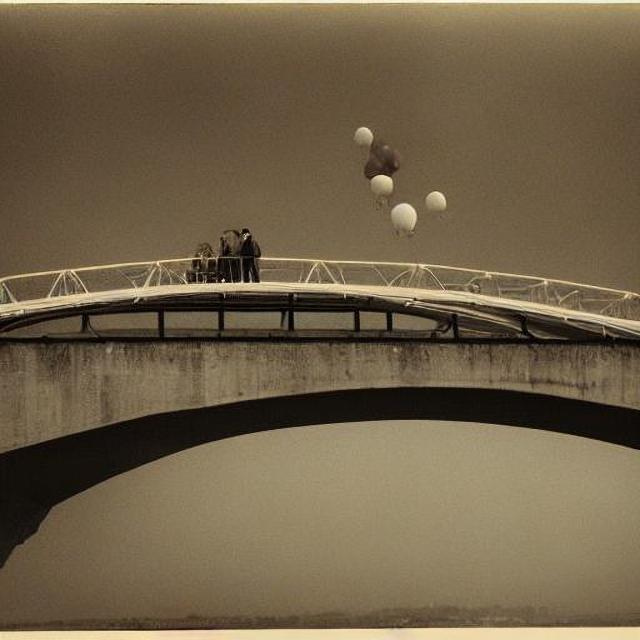balloon: (333, 109, 408, 211), (422, 166, 478, 225), (387, 199, 417, 233)
